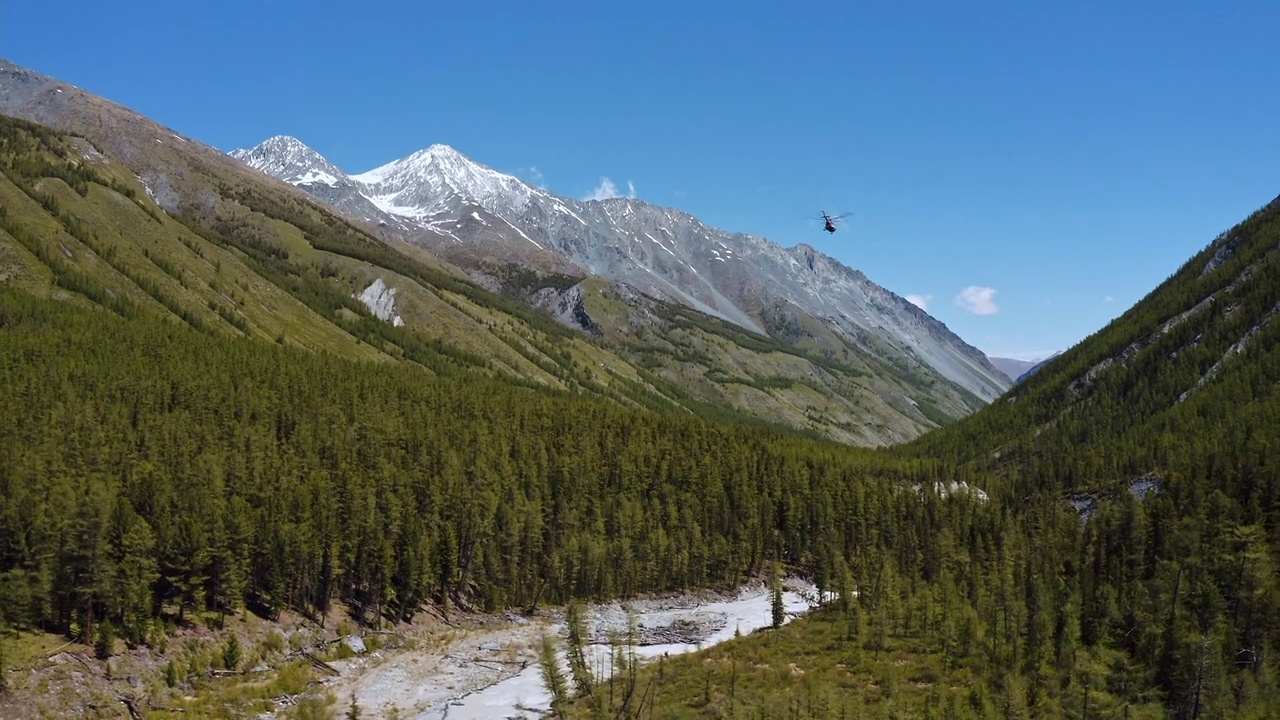heli: (806, 210, 854, 235)
